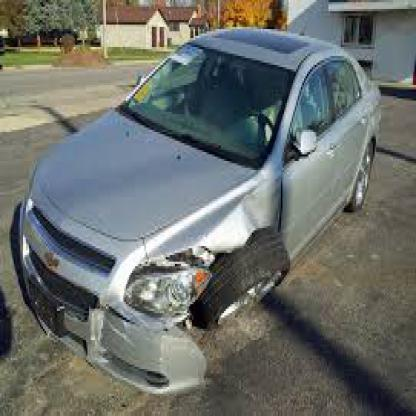dent: (210, 191, 284, 252)
